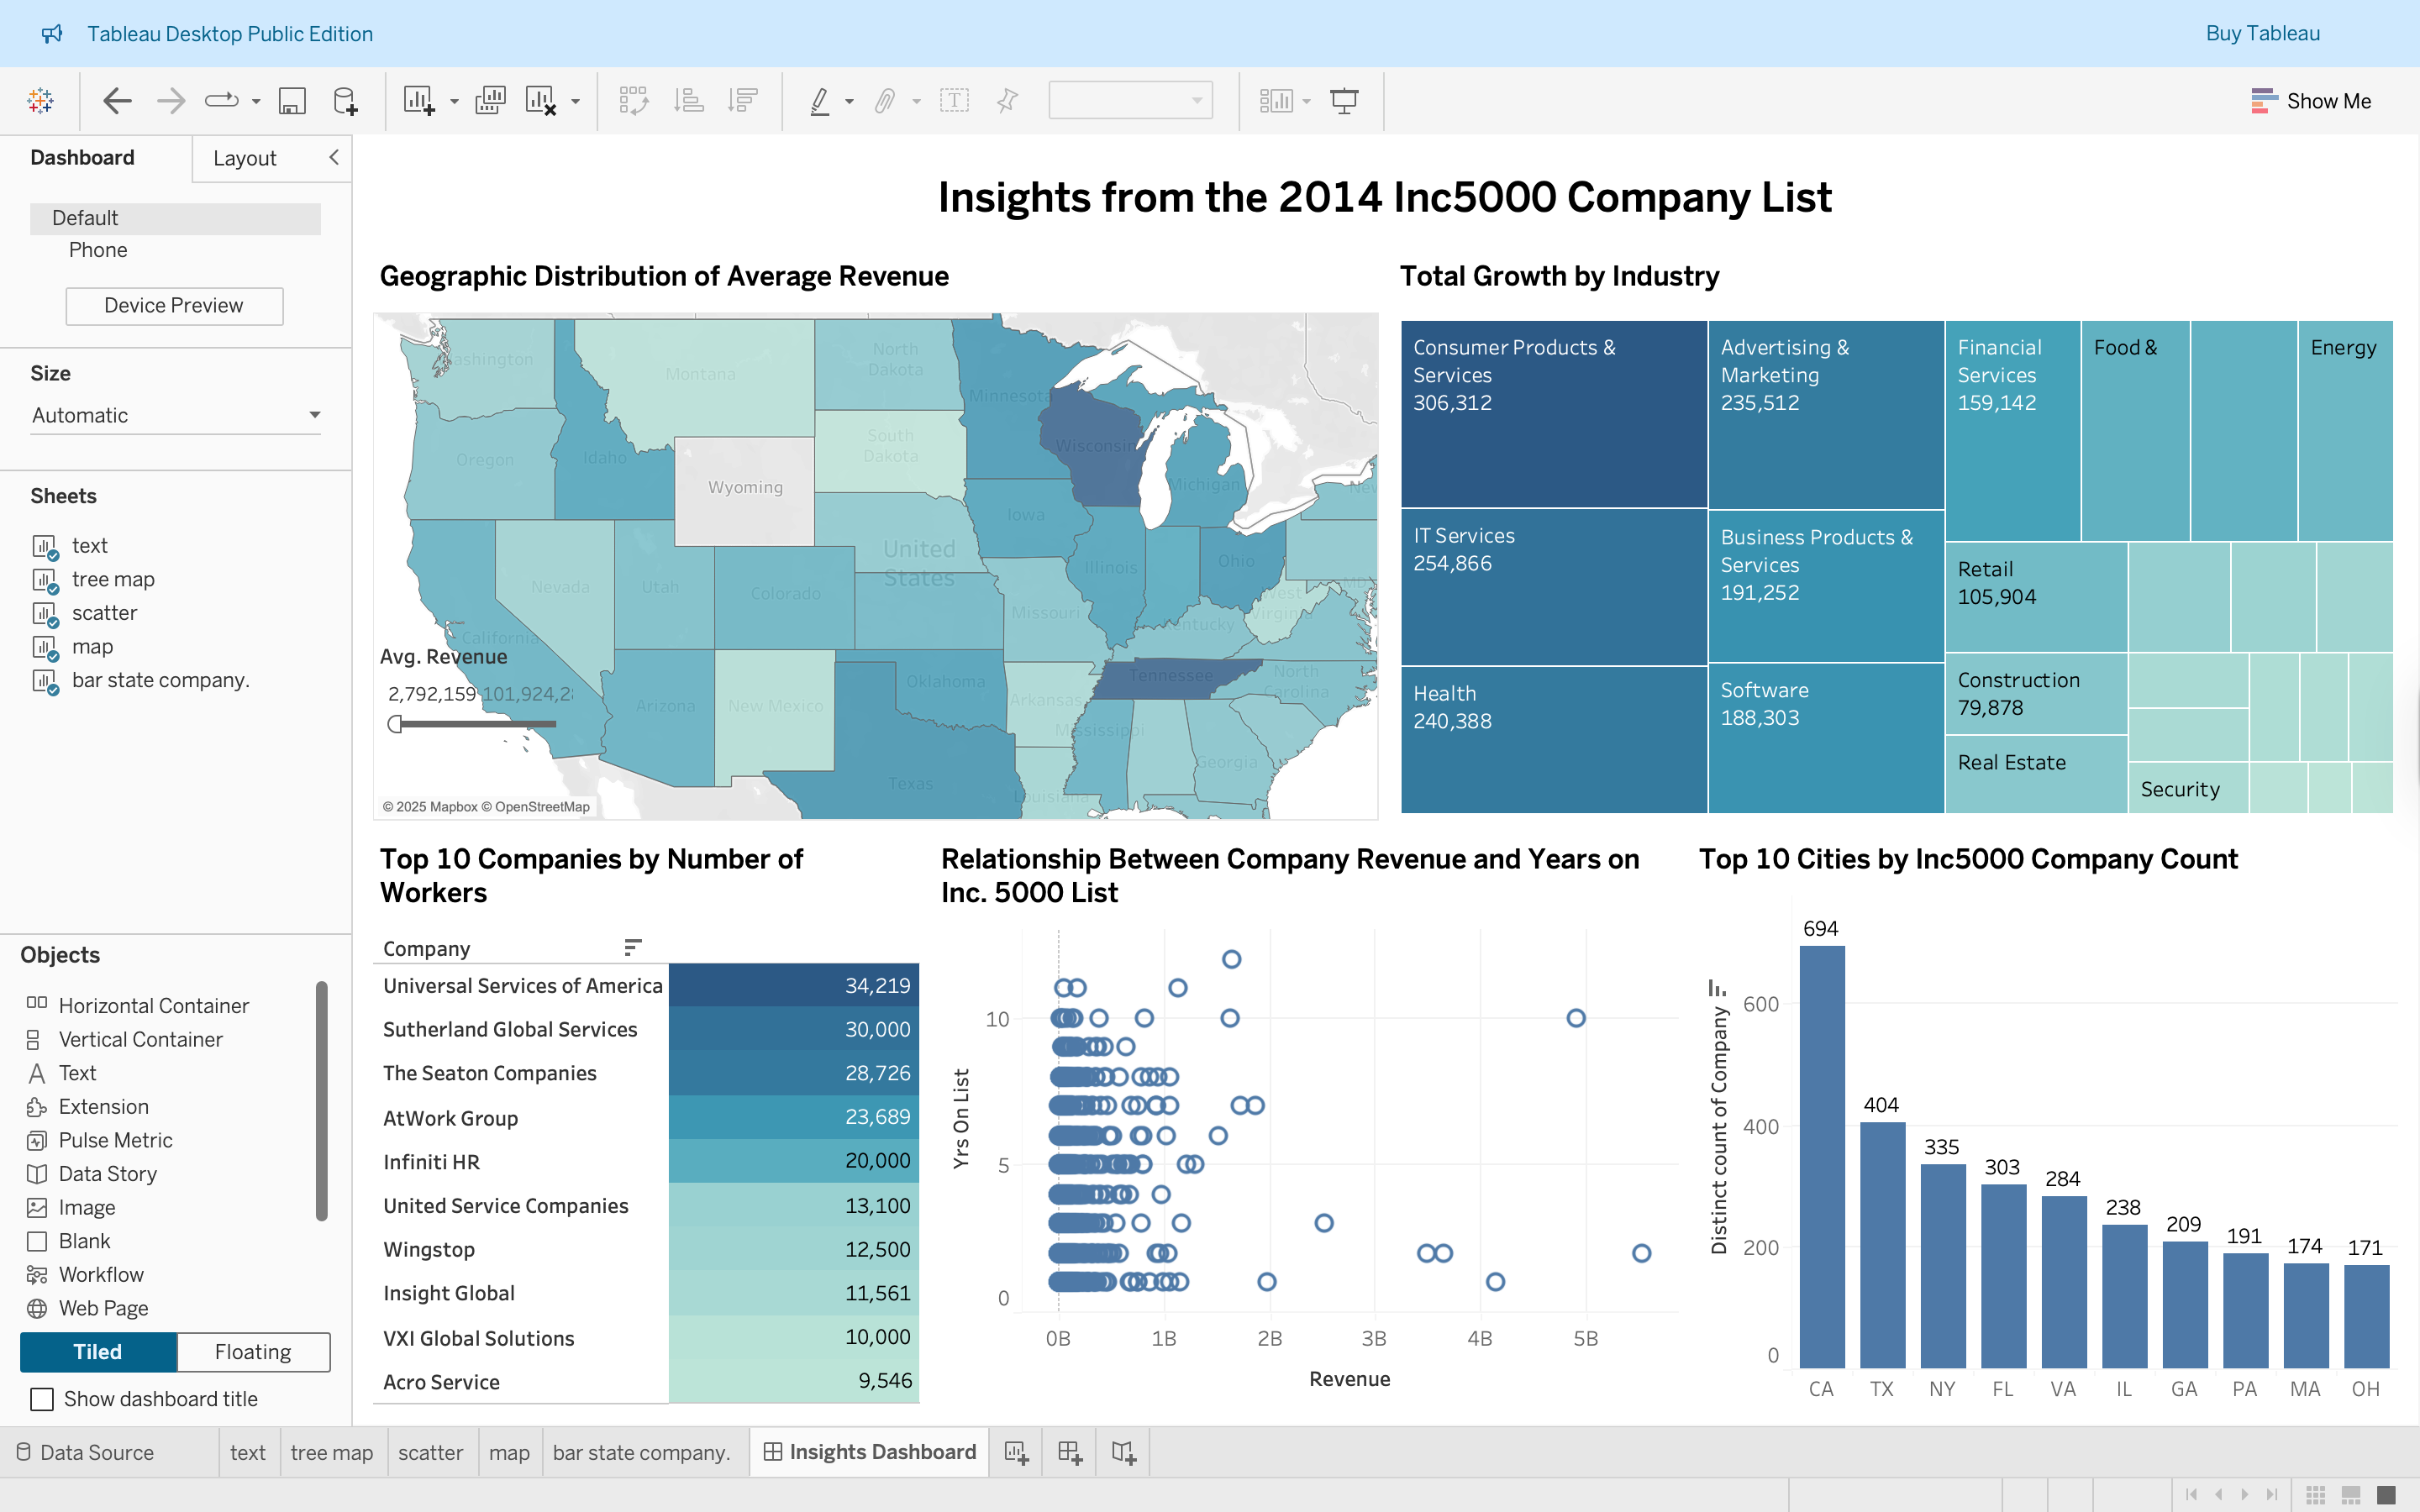

The page's visual inventory and layout, read from the dashboard file:
{"tool":"tableau","page":{"name":"Insights Dashboard","canvas":[1000,1000],"units":"permille","ordinal":0},"visuals":[{"type":"text","box":[6.8,12.3,986.5,76.8]},{"type":"worksheet","title":"map","mark":"Automatic","box":[6.8,89.1,493.2,449.3]},{"type":"worksheet","title":"tree map","mark":"Automatic","box":[500,89.1,493.2,449.3]},{"type":"filter","title":"map","param":"[federated.02d2alu1h9ezg91cj77h415p36ye].[avg:revenue:qk]","box":[12.7,393.2,96.3,106]},{"type":"worksheet","title":"text","mark":"Square","rows":["company"],"box":[6.8,538.4,272,449.3]},{"type":"worksheet","title":"scatter","mark":"Automatic","rows":["yrs_on_list"],"cols":["revenue"],"box":[278.7,538.4,366.6,449.3]},{"type":"worksheet","title":"bar state company.","mark":"Automatic","rows":["company"],"cols":["state_s"],"box":[645.3,538.4,348,449.3]}]}

Visuals, with their boxes on the dashboard's canvas, which has no fixed pixel size, in thousandths of its width and height (x1, y1, x2, y2). These are canvas units, not pixel positions in the 2420x1512 screenshot, which may show the page scaled, cropped or inside an application window:
text: {"x1": 7, "y1": 12, "x2": 993, "y2": 89}
"map" worksheet: {"x1": 7, "y1": 89, "x2": 500, "y2": 538}
"tree map" worksheet: {"x1": 500, "y1": 89, "x2": 993, "y2": 538}
"map" filter: {"x1": 13, "y1": 393, "x2": 109, "y2": 499}
"text" worksheet (Square marks): {"x1": 7, "y1": 538, "x2": 279, "y2": 988}
"scatter" worksheet: {"x1": 279, "y1": 538, "x2": 645, "y2": 988}
"bar state company." worksheet: {"x1": 645, "y1": 538, "x2": 993, "y2": 988}
